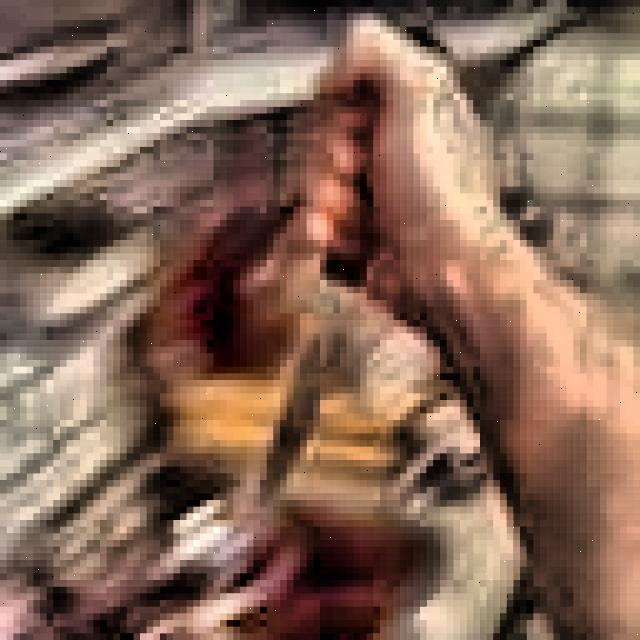knife: (254, 32, 452, 534)
